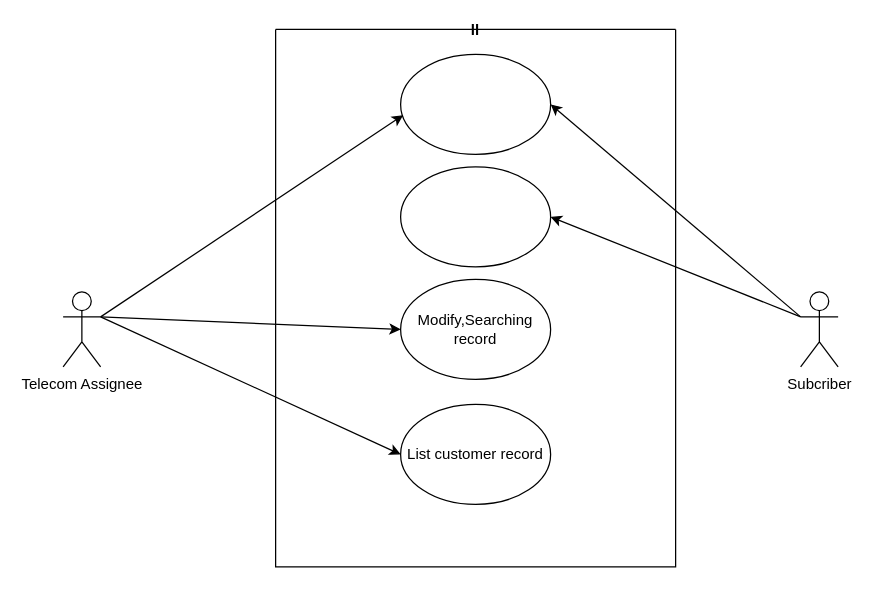
The diagram is 873 pixels wide and 589 high, and some of its shapes have lost their labels. The centre of each missing label's shape, as x and y in pixels:
"Add record" belongs at point 475,103.
"Payment of bill" belongs at point 475,216.
